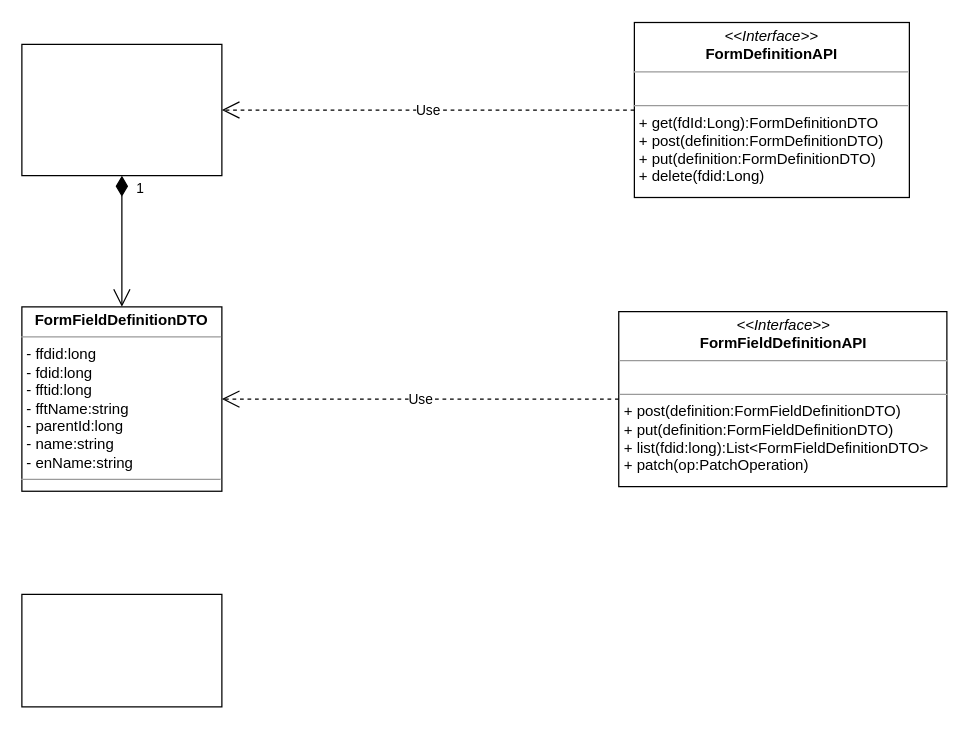
The diagram is 969 pixels wide and 729 high, and some of its shapes have lost their labels. The shapes that lost their labels are listed below. From the top down, each one's box as (x1, y1, x2, y2) in pixels, then its label:
(21, 43, 222, 176): FormDefinitionDTO - fdId:long - name:string - state:string
(21, 593, 222, 707): FormFieldTypeDTO - ffdid:long - ffid:long -
